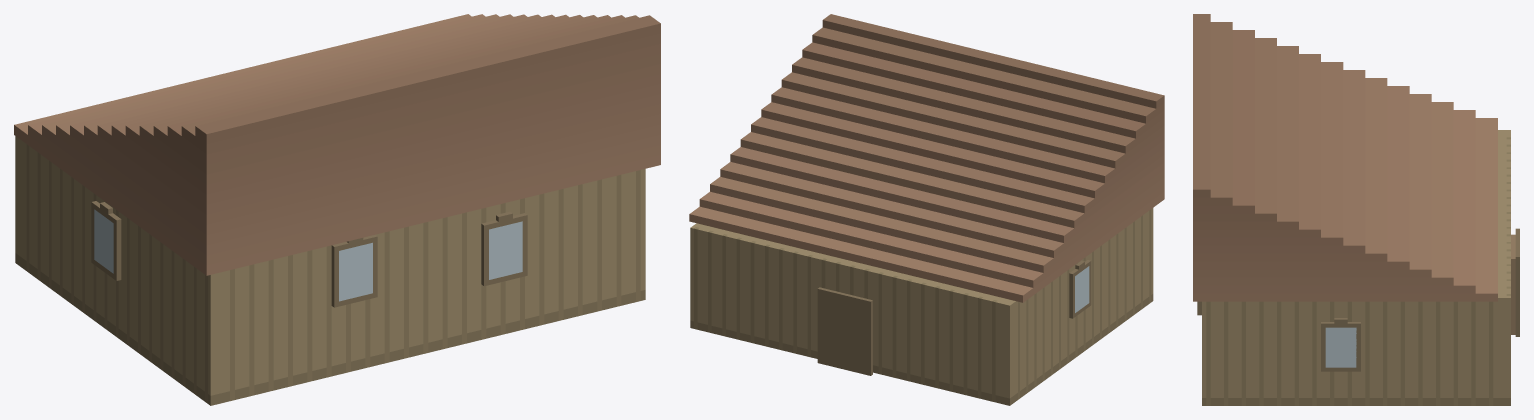
Rendered from panaderia_04.glb.
The picture shows the model from 3 angles, left to right: view 1: azimuth 30°, elevation 25°; view 2: azimuth 150°, elevation 25°; view 3: azimuth 270°, elevation 25°; orthographic projection. The views are drawn at different scales.
Visible parts, largest first — view 1: panaderia_04; view 2: panaderia_04; view 3: panaderia_04.
Boxes of the visible parts, box(x1,y1,x2,y2) form: panaderia_04: box(14, 14, 660, 405); panaderia_04: box(689, 14, 1164, 405); panaderia_04: box(1193, 14, 1519, 405).
Bounding box in the file's own units: 9.4 × 5.5 × 7.4.
